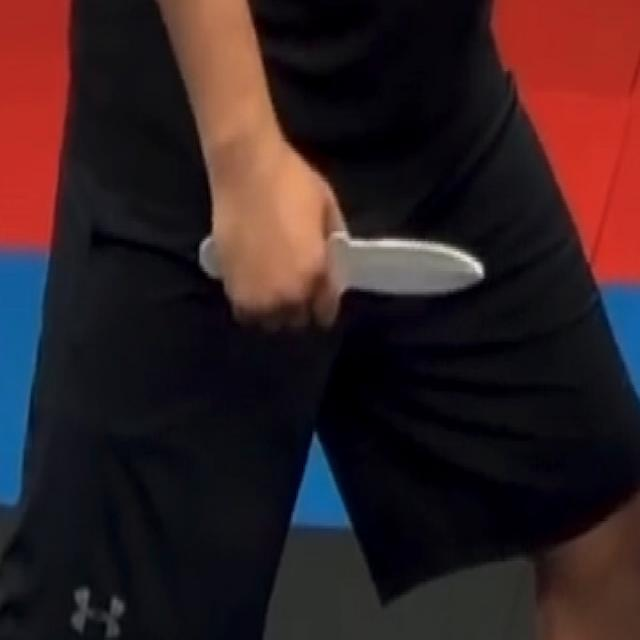suspicion: (155, 2, 492, 336), (332, 230, 486, 302), (200, 236, 221, 278)
